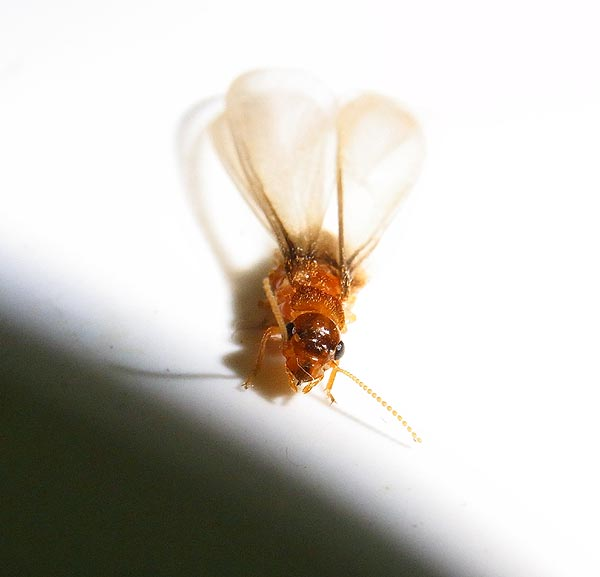flying termite: (96, 41, 459, 455)
